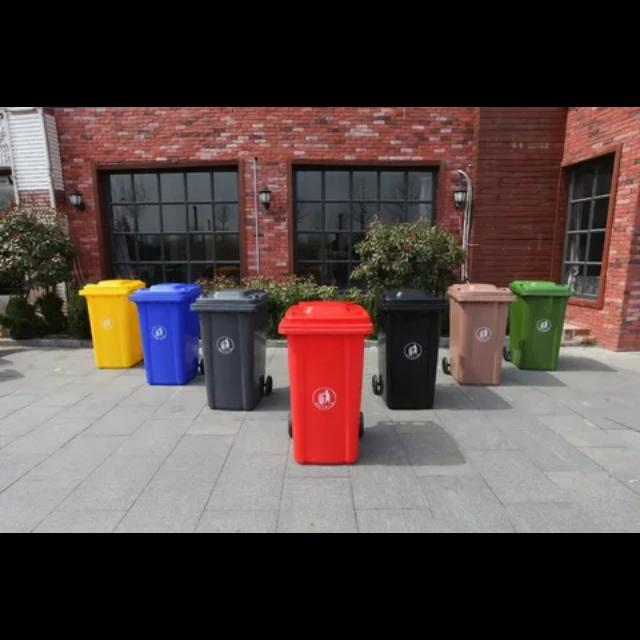Trash_Can_Closed: (278, 300, 374, 465), (191, 288, 273, 411), (373, 286, 449, 410), (130, 281, 205, 386), (443, 283, 517, 386), (78, 277, 147, 369), (503, 280, 573, 370)
